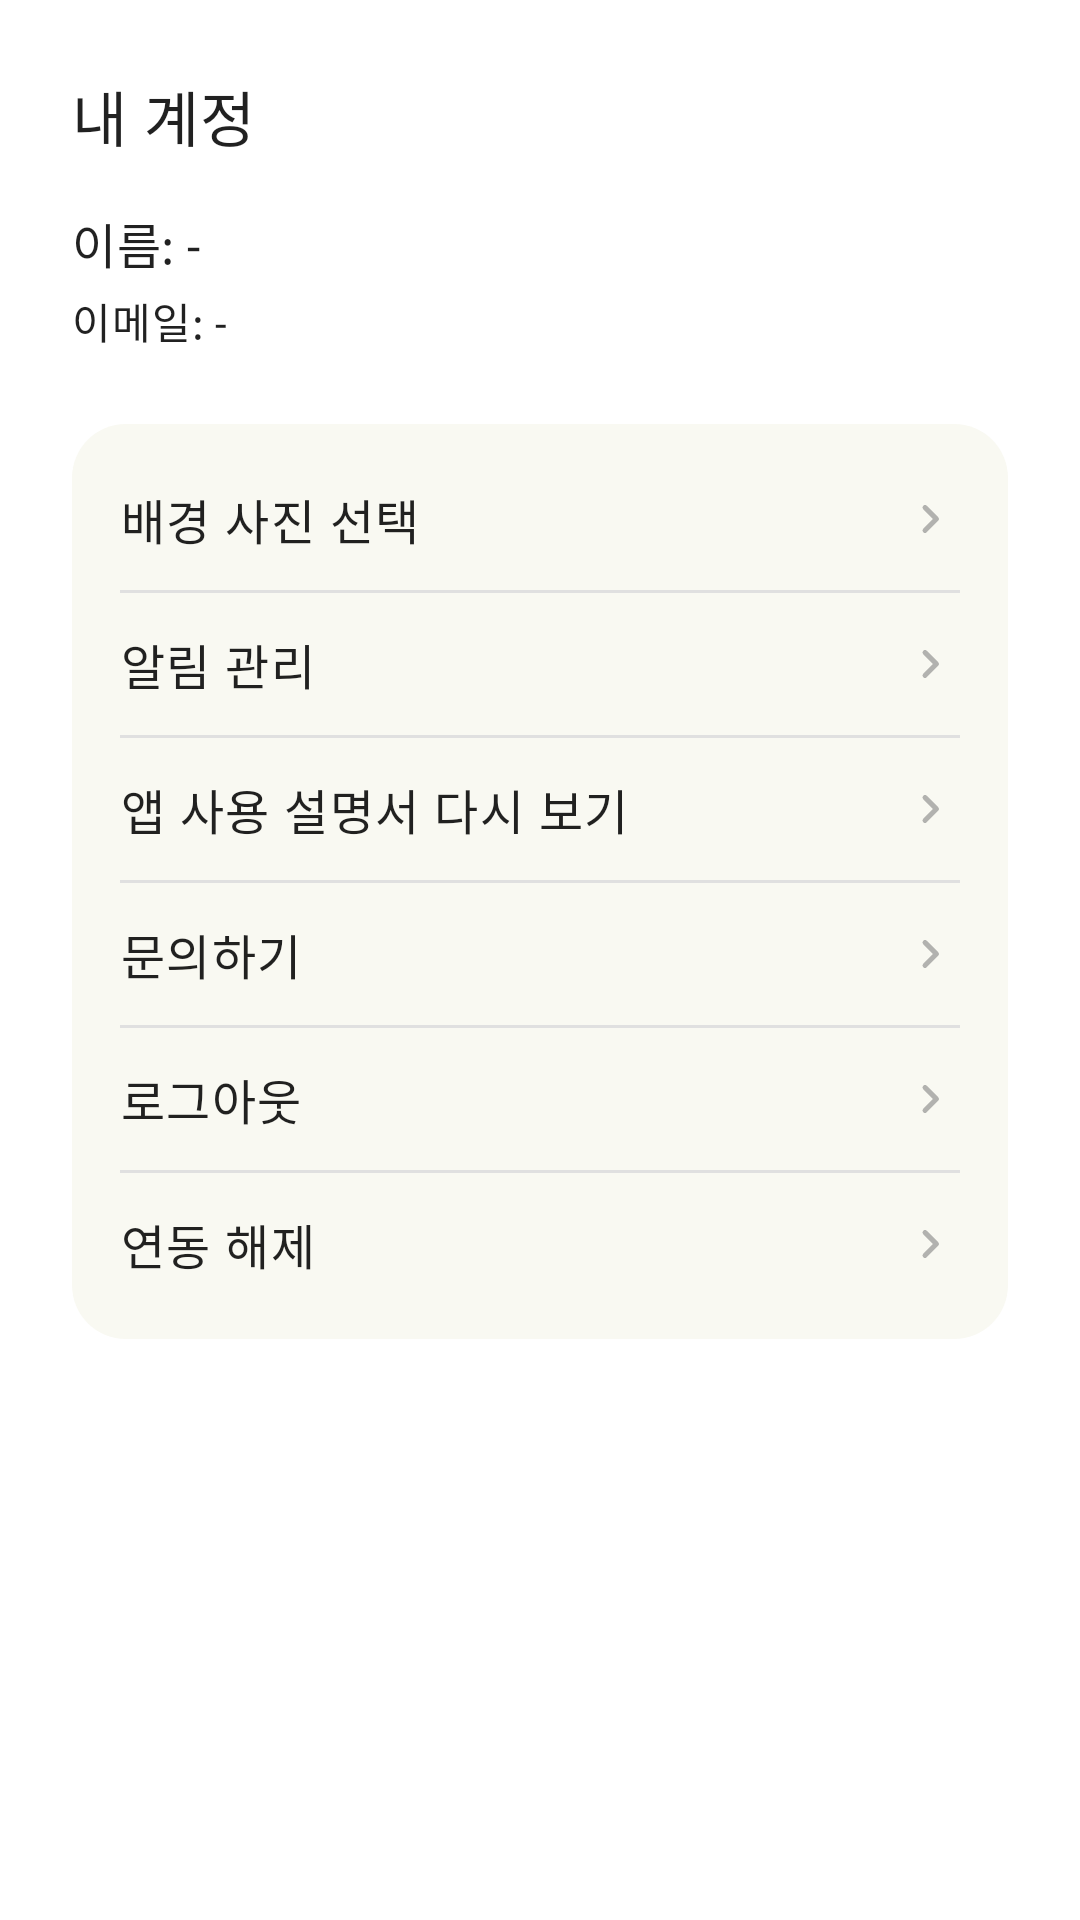

Screen size 1080*1920. Icon name, then its box in pixels as (x1, y1, x2, y2):
chevron right: (922, 505, 939, 533), (922, 650, 939, 678), (922, 795, 939, 823), (922, 940, 939, 968), (922, 1085, 939, 1113), (922, 1230, 939, 1258)
